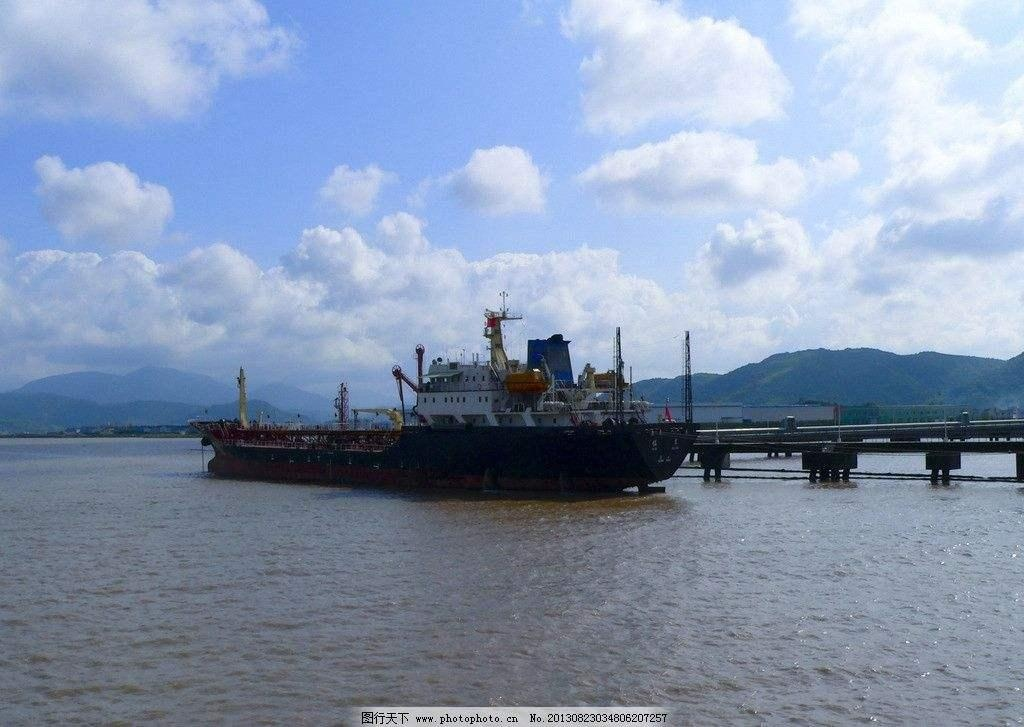Cargoship: (183, 302, 690, 499)
